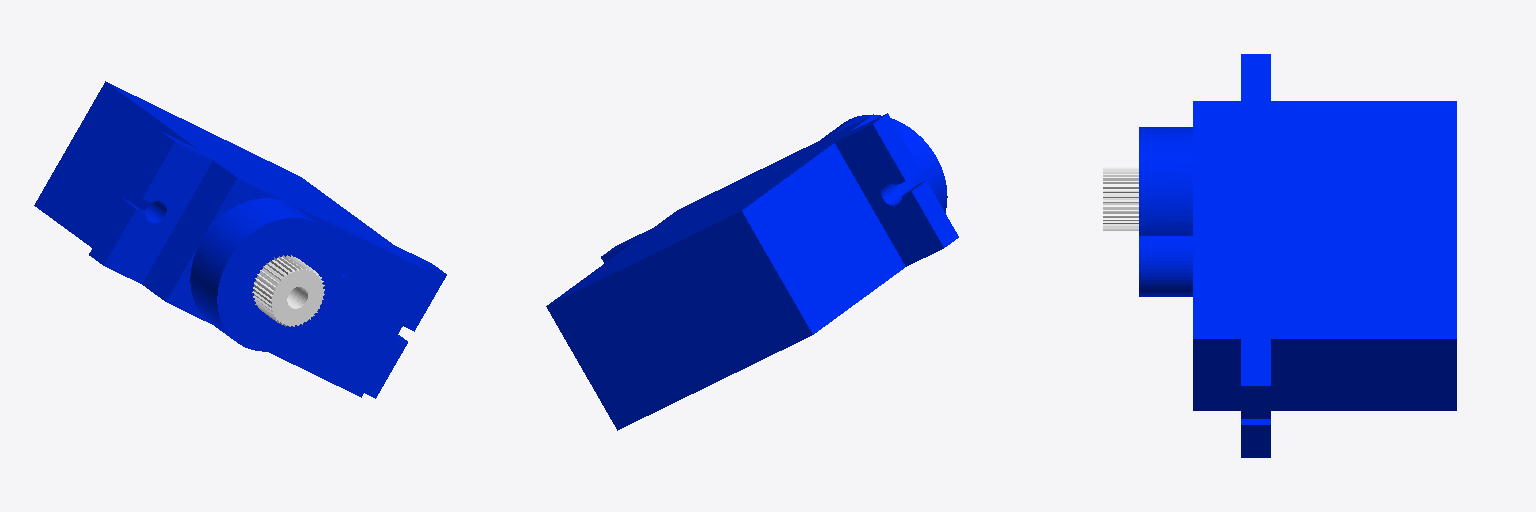
The model's file is ServoTopWithEverything.obj.
3 renders of one model, left to right at view 1: azimuth 30°, elevation 25°; view 2: azimuth 150°, elevation 25°; view 3: azimuth 270°, elevation 25°, orthographic.
Parts seen in each view (by area): view 1: Body1, Body2; view 2: Body1; view 3: Body1, Body2.
Part boxes in pixels (x1,y1,x2,y2): Body1: (34,81,446,398); Body2: (252,255,324,326); Body1: (546,113,958,430); Body1: (1139,54,1456,457); Body2: (1103,167,1138,230).
Size of the model in its own units: 0.0331 by 0.0282 by 0.0295.